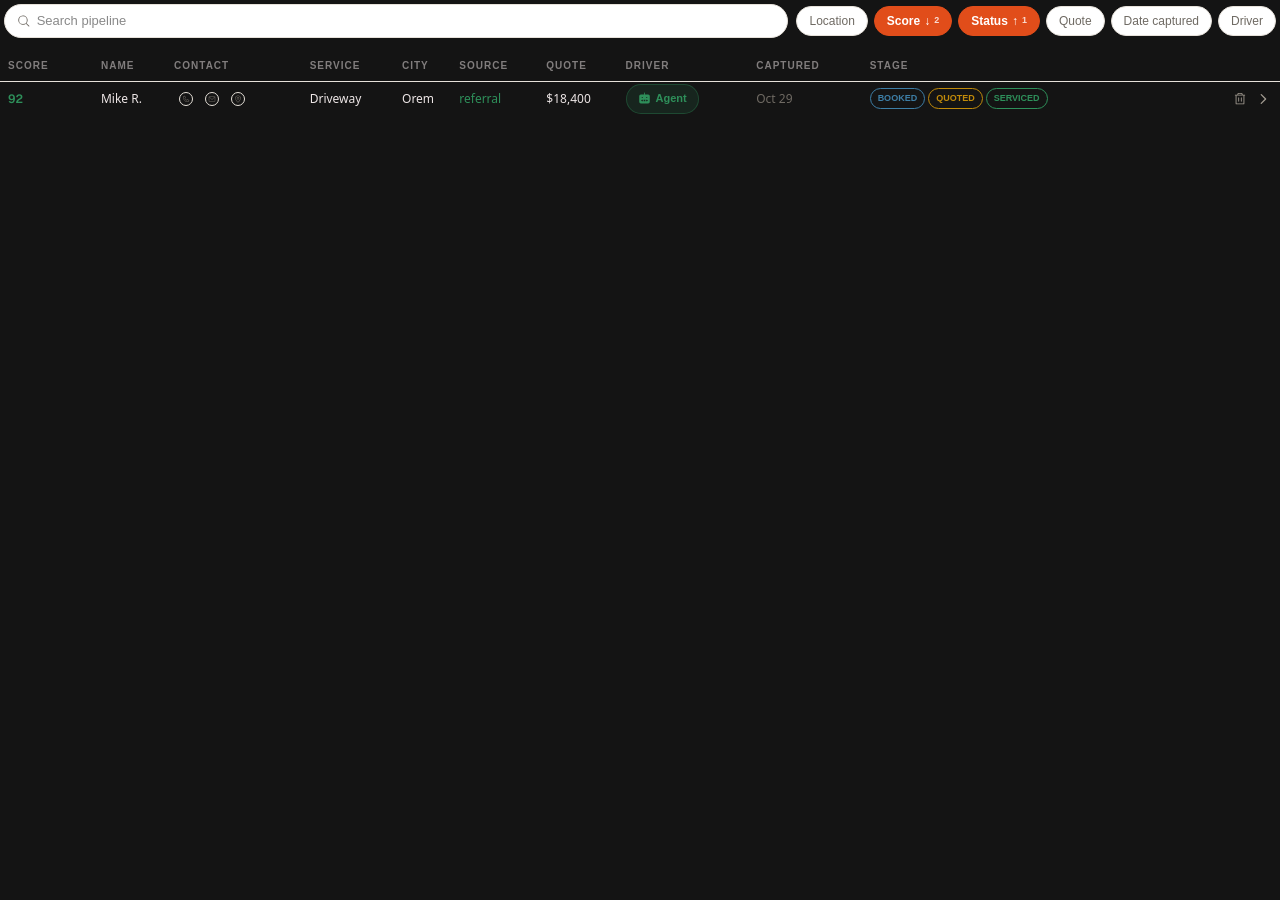
LeadsTable delete › No closes the confirmation and keeps the row
The image size is (1280, 900).
Click the button with test id "delete-lead-l1" at (1240, 98), box [1228,86,1252,110]
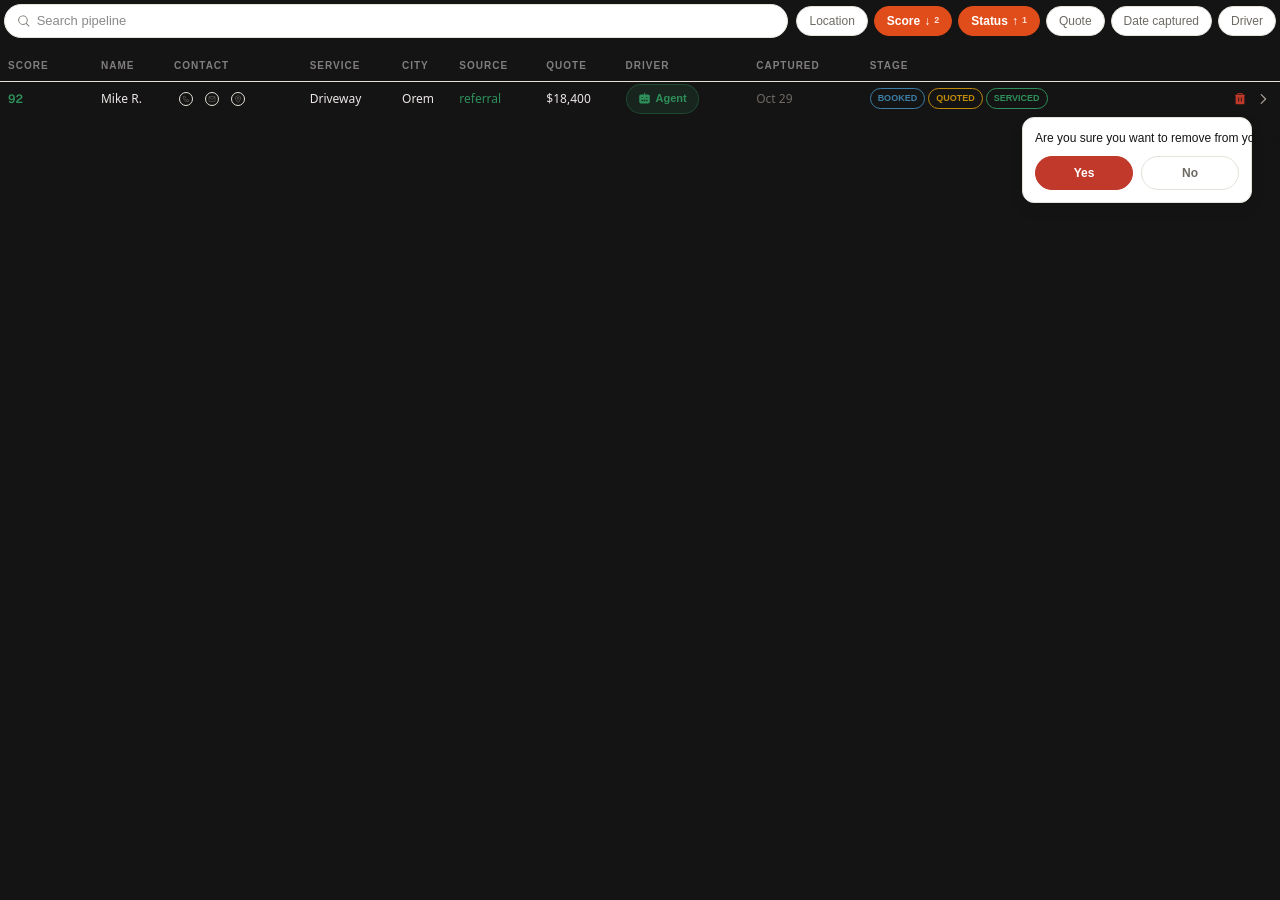
Click the button with test id "delete-lead-l1-no" at (1190, 173), box [1141,156,1239,190]
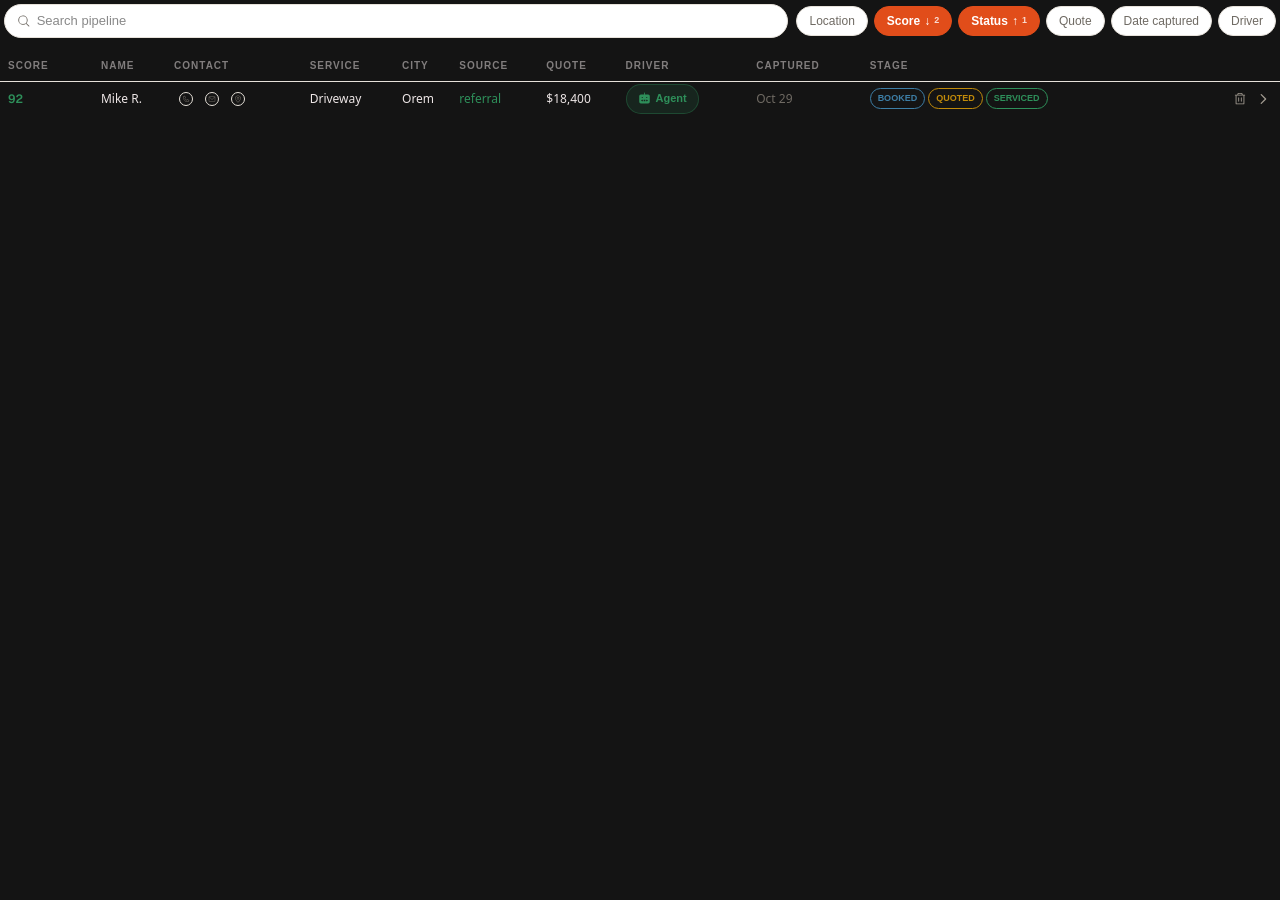
expect the row with test id "lead-row-l1" is shown: met, box [0,81,1279,116]
expect the dialog with test id "delete-lead-l1-confirm" is gone: met
